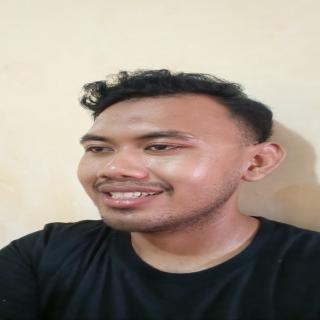Senang: (78, 92, 233, 233)
